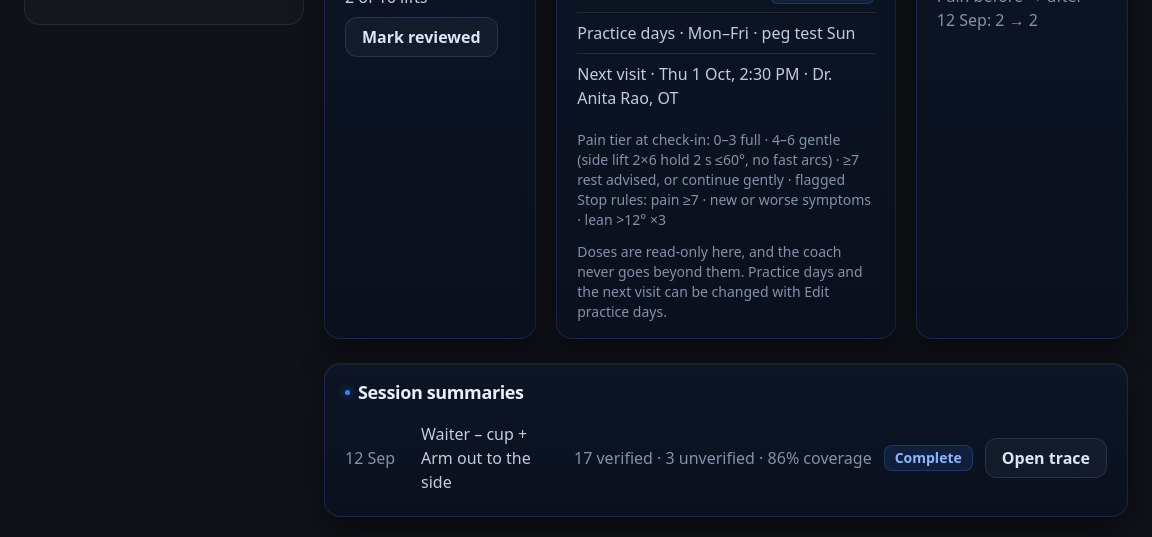
Test: 10 Oct: the empty trace line names the coach by the service's agent mode, never a stale "pending"
(page scrolled)
Click the button "Open trace" at (1046,458), box [985,438,1107,478]
(page scrolled)
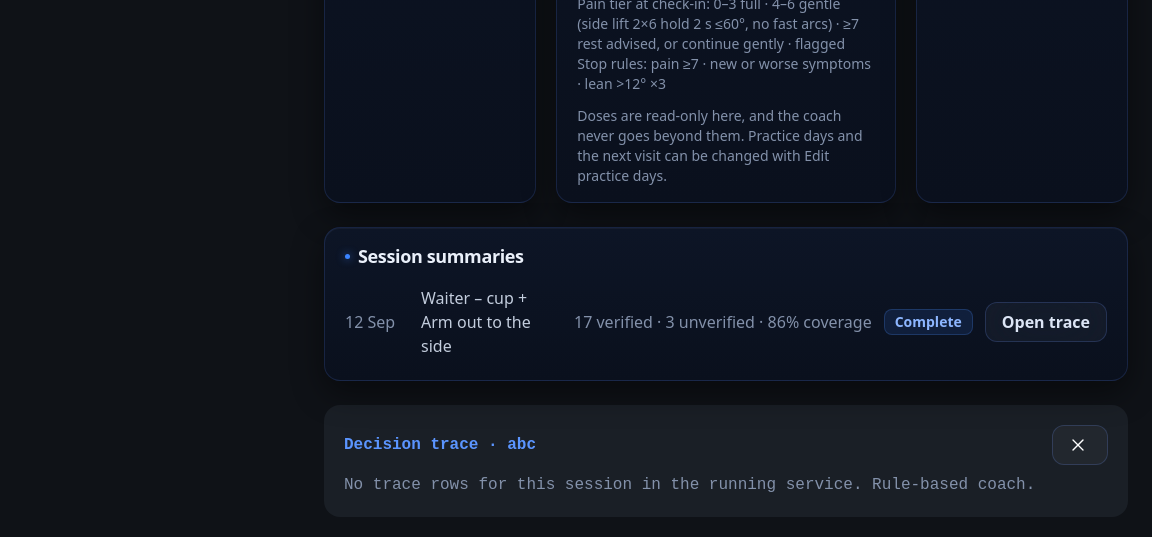
Expected: the text "No trace rows for this session in the running service. Rule-based coach." is shown, [344,473,1108,497]
